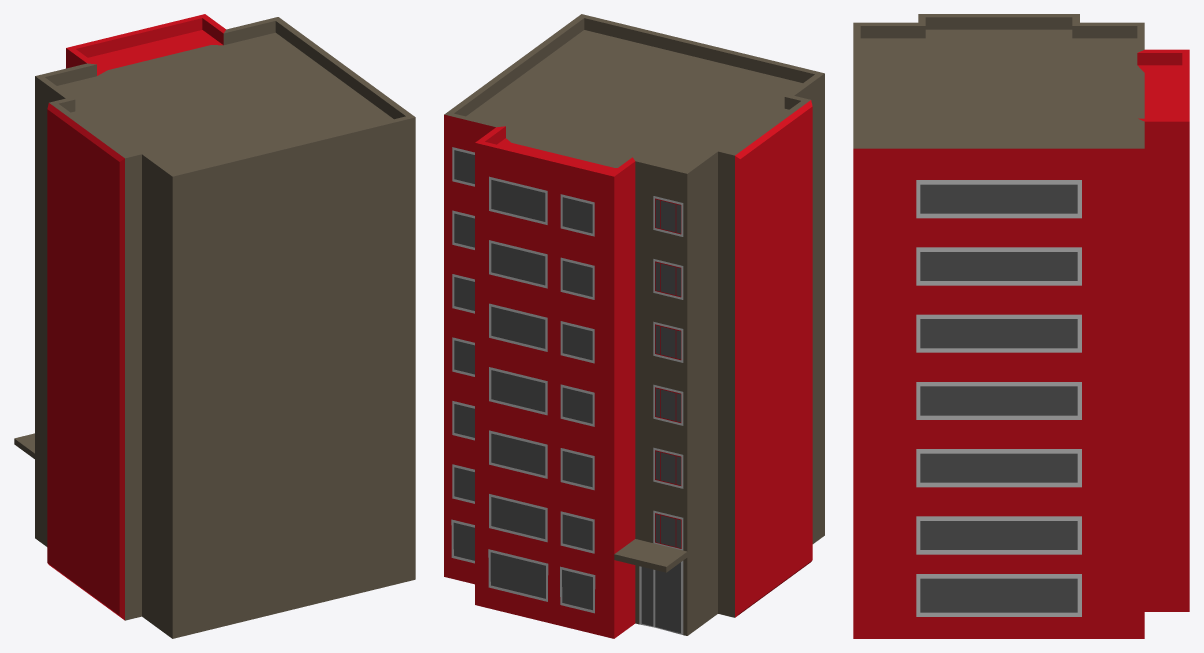
File: apt-7.glb
3 views of the same model, side by side, from view 1: azimuth 30°, elevation 25°; view 2: azimuth 150°, elevation 25°; view 3: azimuth 270°, elevation 25° (orthographic). The views are drawn at different scales.
Size of the model in its own units: 1.81 by 3.03 by 1.88.
